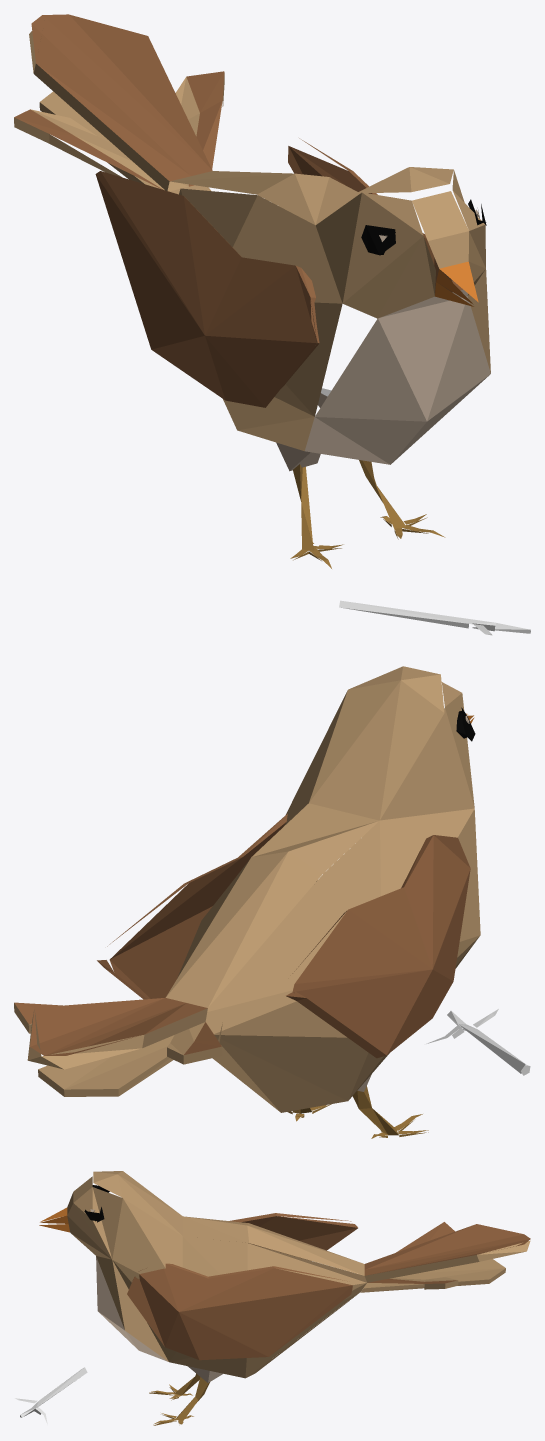
The model's file is v_sparrow.glb.
3 views of the same model, one above another, from view 1: azimuth 30°, elevation 25°; view 2: azimuth 150°, elevation 25°; view 3: azimuth 270°, elevation 25° (orthographic). The views are drawn at different scales.
Visible parts, largest first — view 1: Cylinder007; view 2: Cylinder007; view 3: Cylinder007.
Boxes of the visible parts, x1=… form: Cylinder007: x1=14, y1=14, x2=530, y2=635; Cylinder007: x1=14, y1=666, x2=530, y2=1138; Cylinder007: x1=15, y1=1171, x2=530, y2=1425.
Bounding box in the file's own units: 0.0436 × 0.0759 × 0.1467.
